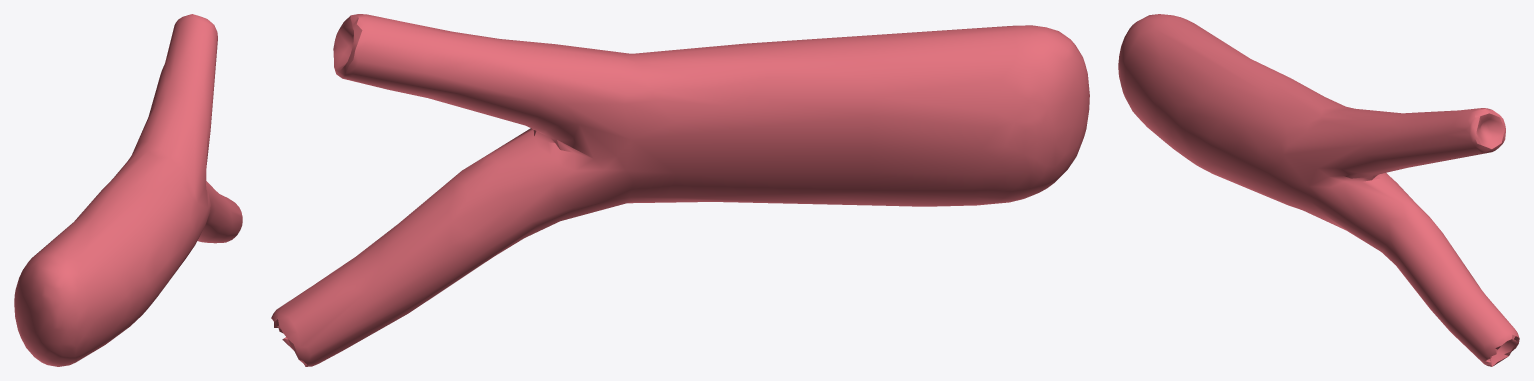
File: fma14753.glb
3 renders of one model, left to right at view 1: azimuth 30°, elevation 25°; view 2: azimuth 150°, elevation 25°; view 3: azimuth 270°, elevation 25°, orthographic. The views are drawn at different scales.
Parts seen in each view (by area): view 1: FMA14753; view 2: FMA14753; view 3: FMA14753.
Boxes of the visible parts, x1,y1,x2,y2 form: FMA14753: [14, 14, 242, 366]; FMA14753: [271, 14, 1089, 366]; FMA14753: [1118, 14, 1519, 366].
Bounding box in the file's own units: 0.0466 × 0.028 × 0.0424.
